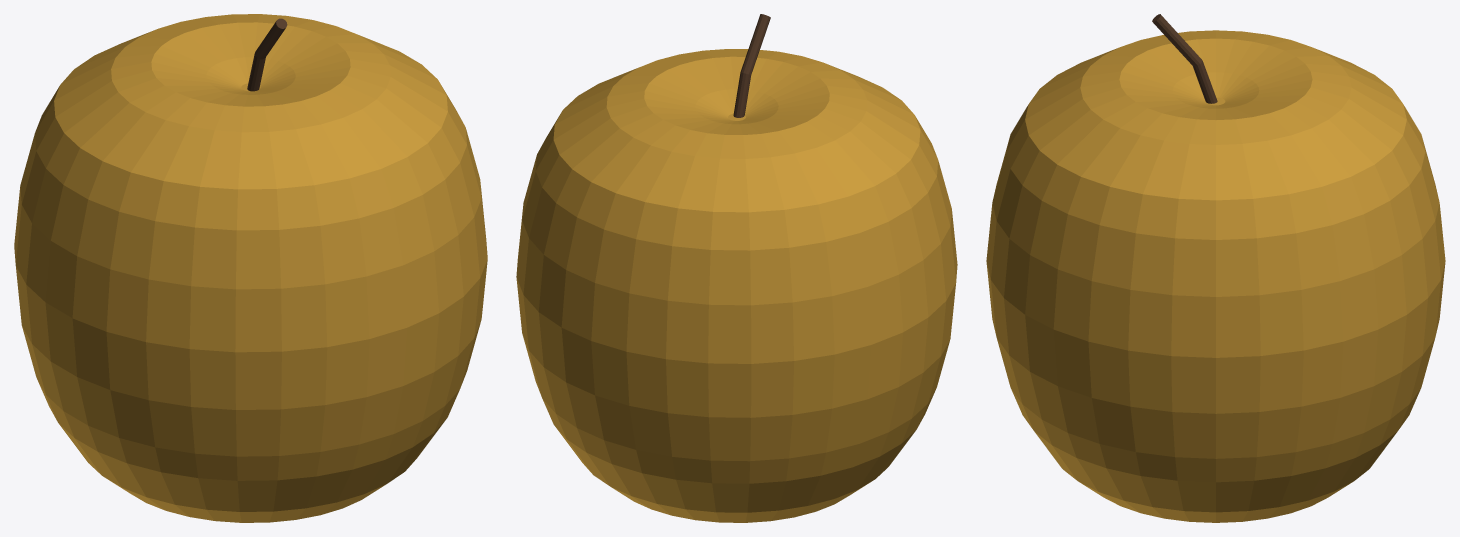
File: PommeJaune.fbx
3 renders of one model, left to right at view 1: azimuth 30°, elevation 25°; view 2: azimuth 150°, elevation 25°; view 3: azimuth 270°, elevation 25°, orthographic. The views are drawn at different scales.
Parts seen in each view (by area): view 1: Cylinder.002, Plane.002; view 2: Cylinder.002, Plane.002; view 3: Cylinder.002, Plane.002.
Part boxes in pixels (left/top/right/bottom): Cylinder.002: left=14, top=14, right=487, bottom=522; Plane.002: left=247, top=18, right=287, bottom=91; Cylinder.002: left=516, top=49, right=957, bottom=522; Plane.002: left=733, top=14, right=770, bottom=117; Cylinder.002: left=986, top=30, right=1445, bottom=522; Plane.002: left=1152, top=14, right=1217, bottom=103.
Bounding box in the file's own units: 79.21 × 88.17 × 79.21.
